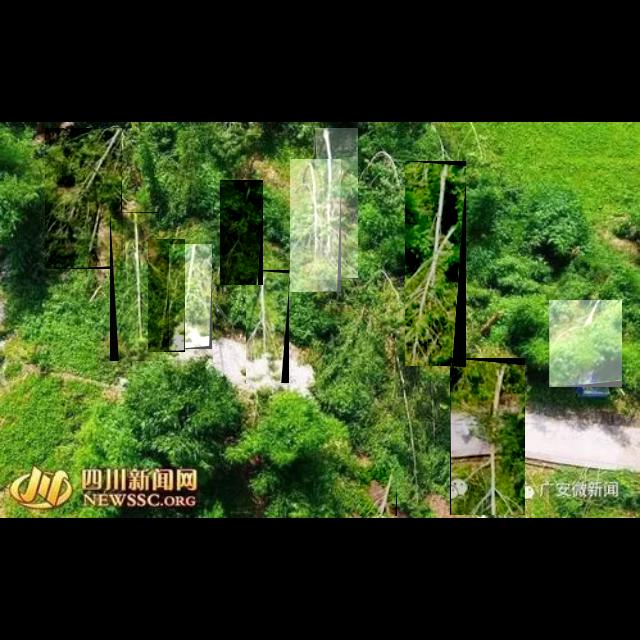Fallen Tree: (405, 161, 467, 367), (450, 358, 526, 516), (45, 128, 123, 270), (110, 212, 160, 362), (290, 159, 342, 293), (315, 128, 359, 280), (549, 300, 623, 388), (246, 270, 290, 384), (169, 244, 213, 350), (220, 180, 264, 286), (148, 239, 186, 353), (360, 467, 398, 517)
